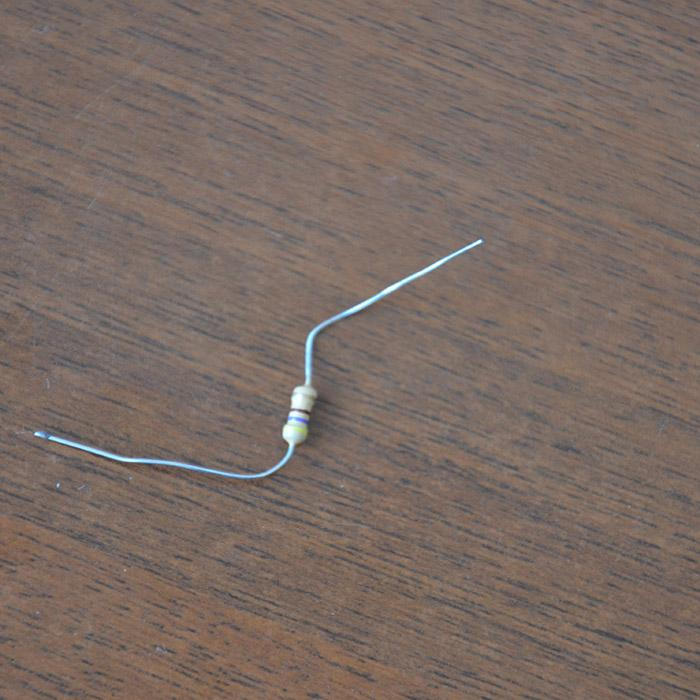resistor: (281, 383, 317, 446)
